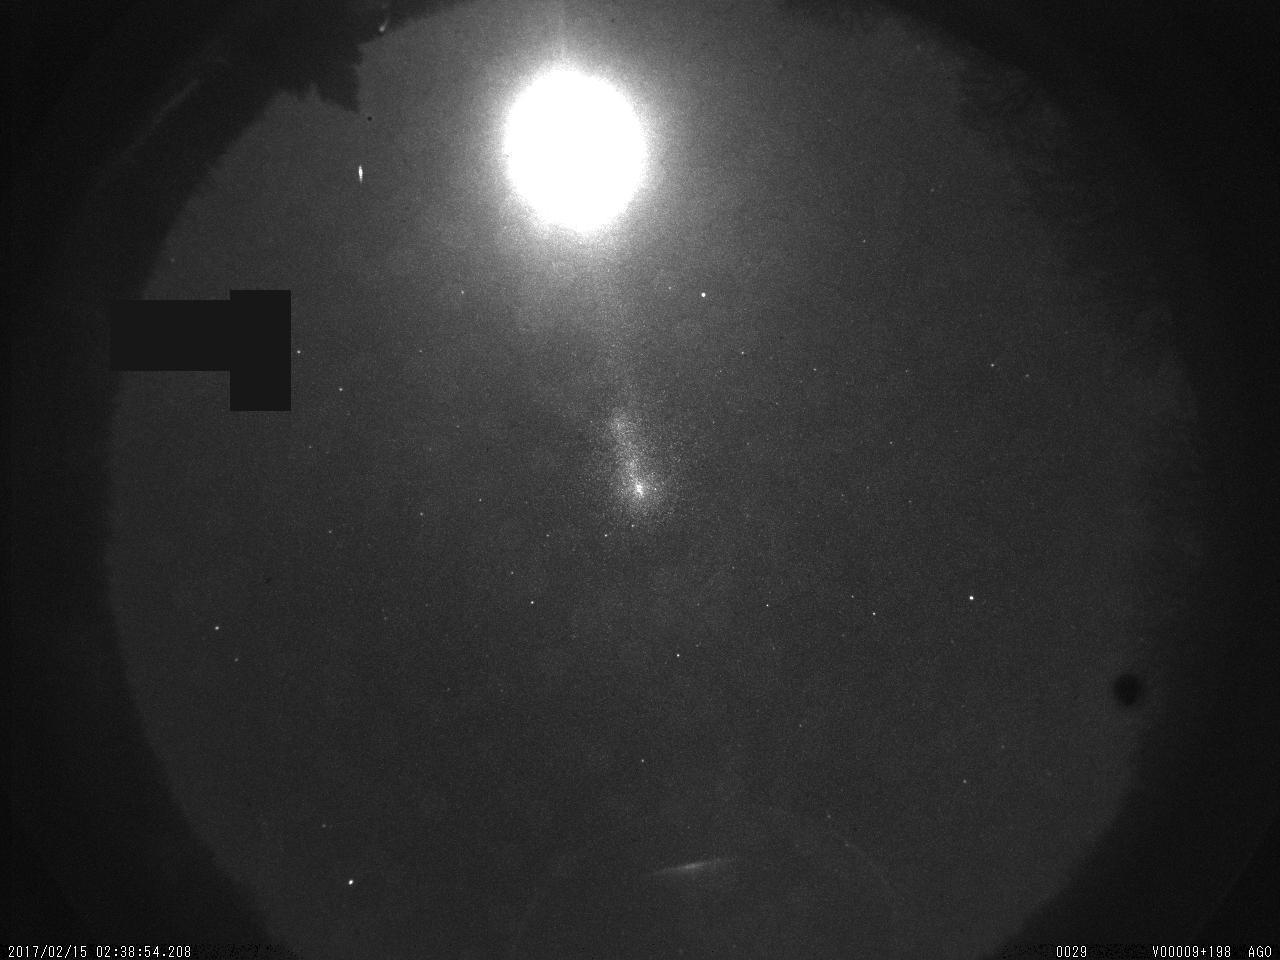Meteor: (355, 162, 365, 187)
